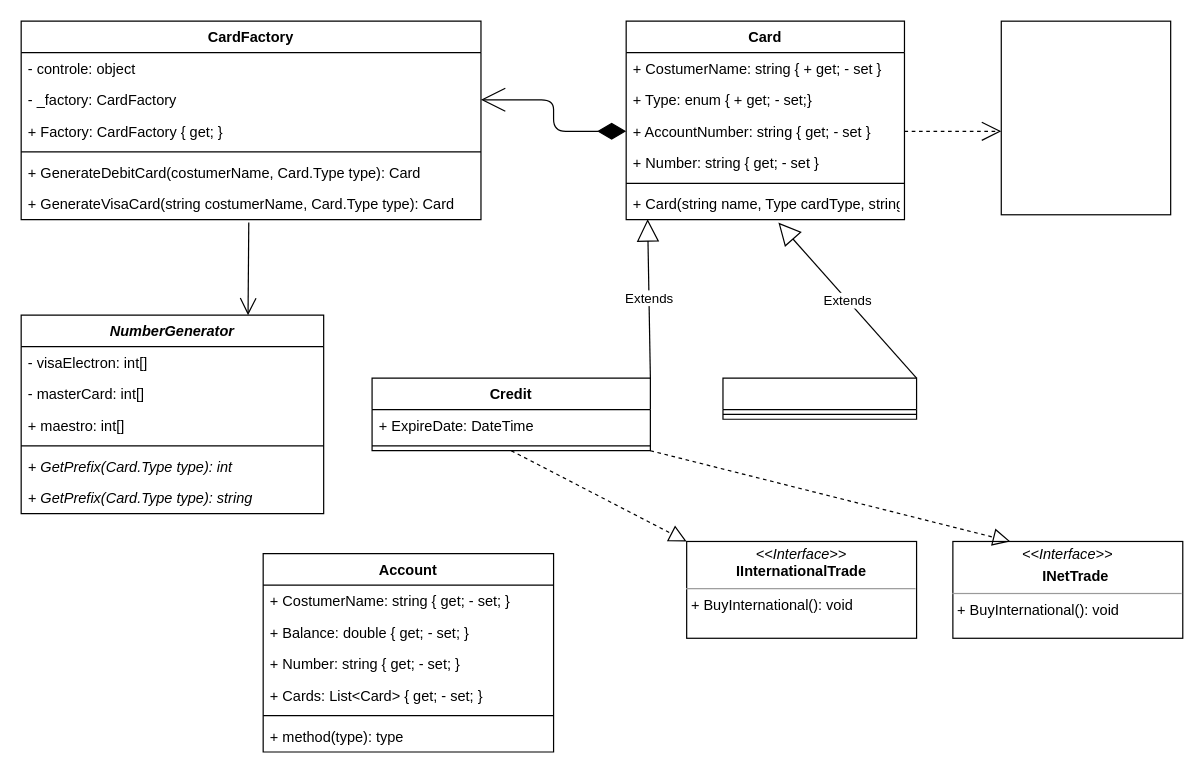
This 1204x777 diagram has some shape labels left out. The centre of each missing label's shape, as x and y in pixels:
<<Enum>> <Type> DebitCard, Maestro, VISAElectron, VISADankort, MasterCard: [1085,117]
Debit: [819,398]
